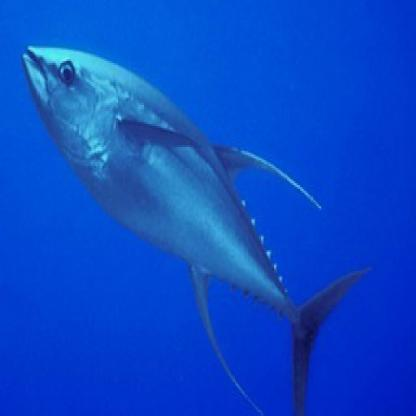tuna: (18, 39, 371, 415)
